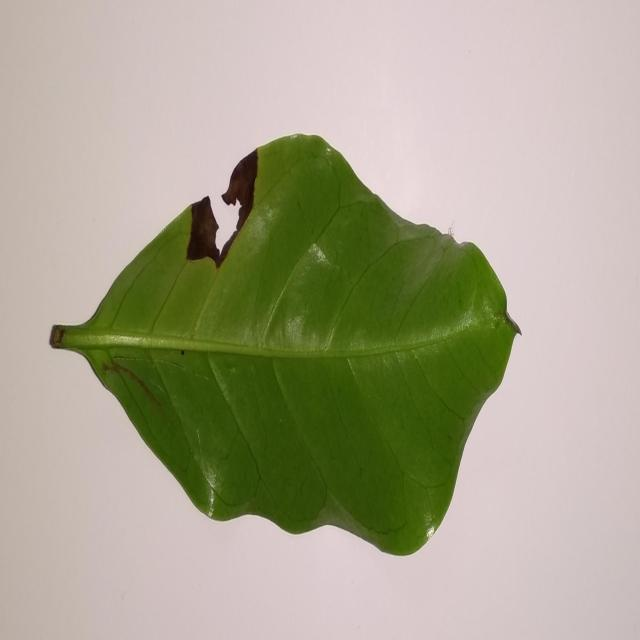phoma: (186, 149, 258, 268)
